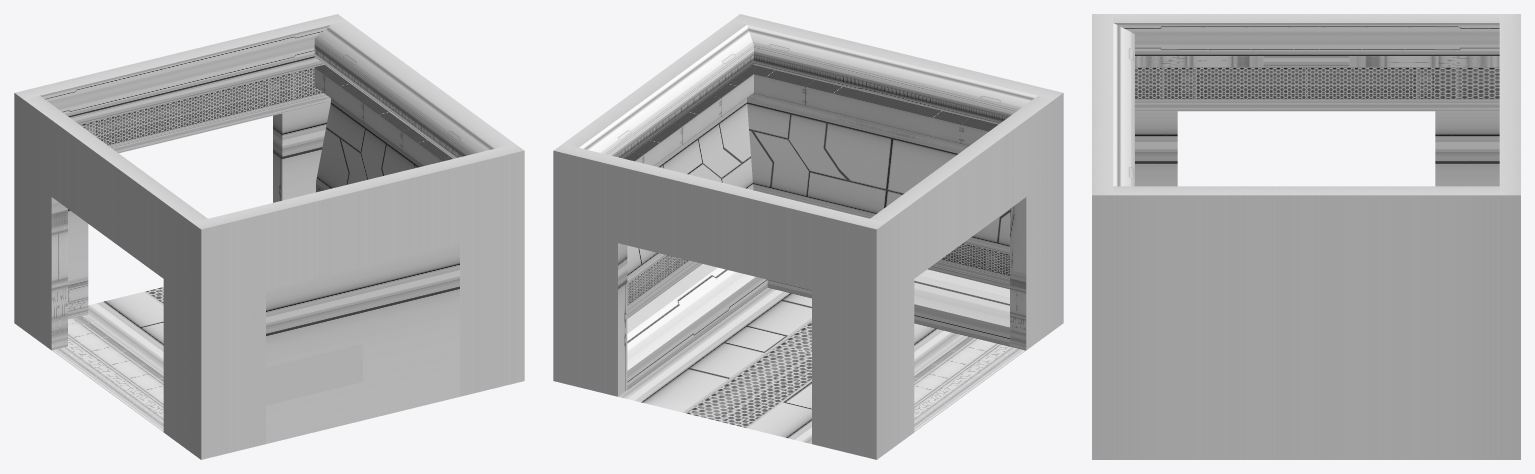
Rendered from Raum_2_Eingange_Ecke.fbx.
3 views of the same model, side by side, from view 1: azimuth 30°, elevation 25°; view 2: azimuth 150°, elevation 25°; view 3: azimuth 270°, elevation 25° (orthographic). The views are drawn at different scales.
Visible parts, largest first — view 1: polySurface11, polySurface12; view 2: polySurface11, polySurface9, polySurface12, polySurface6, polySurface8; view 3: polySurface11, polySurface9.
Part boxes in pixels (bbox=[...]): polySurface11: bbox=[14, 14, 524, 459]; polySurface12: bbox=[314, 25, 498, 192]; polySurface11: bbox=[553, 14, 1063, 459]; polySurface9: bbox=[746, 25, 1037, 289]; polySurface12: bbox=[579, 25, 762, 318]; polySurface6: bbox=[627, 264, 767, 389]; polySurface8: bbox=[767, 269, 1009, 346]; polySurface11: bbox=[1092, 14, 1520, 459]; polySurface9: bbox=[1113, 23, 1134, 186].
Bounding box in the file's own units: 10 × 6.81 × 10.
Materials: 1 (1 with a texture image).
